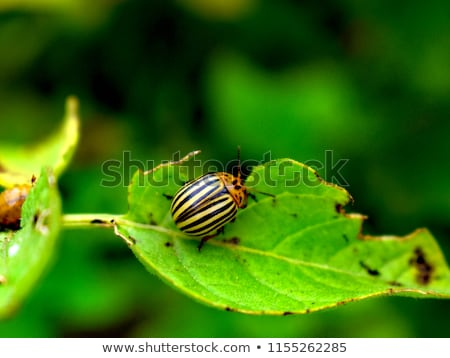hrosc: (170, 163, 249, 236)
